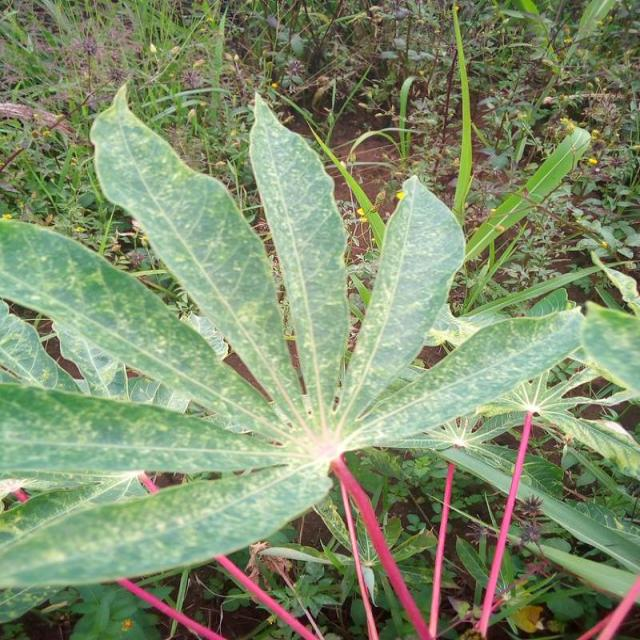cassava leaf: (0, 80, 591, 609), (88, 81, 298, 408), (247, 90, 350, 424), (336, 173, 466, 437)
